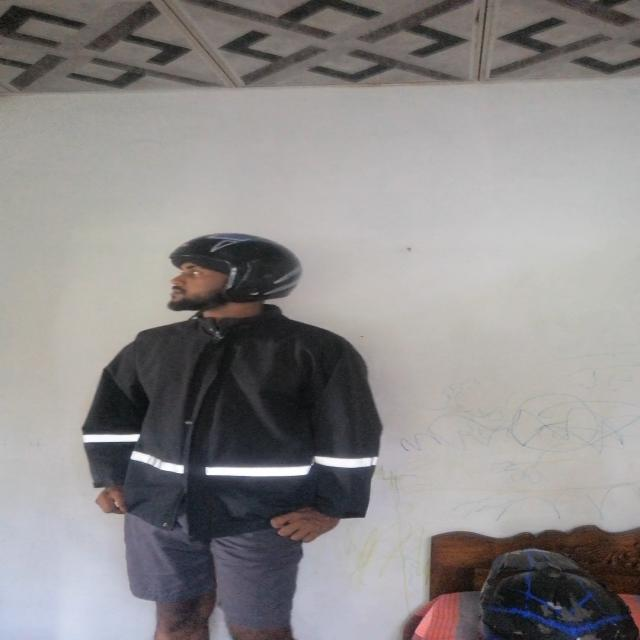Helmet_Wearer: (141, 228, 329, 332)
Jacket_Wearer: (89, 303, 395, 526)
Person: (89, 226, 400, 640)
